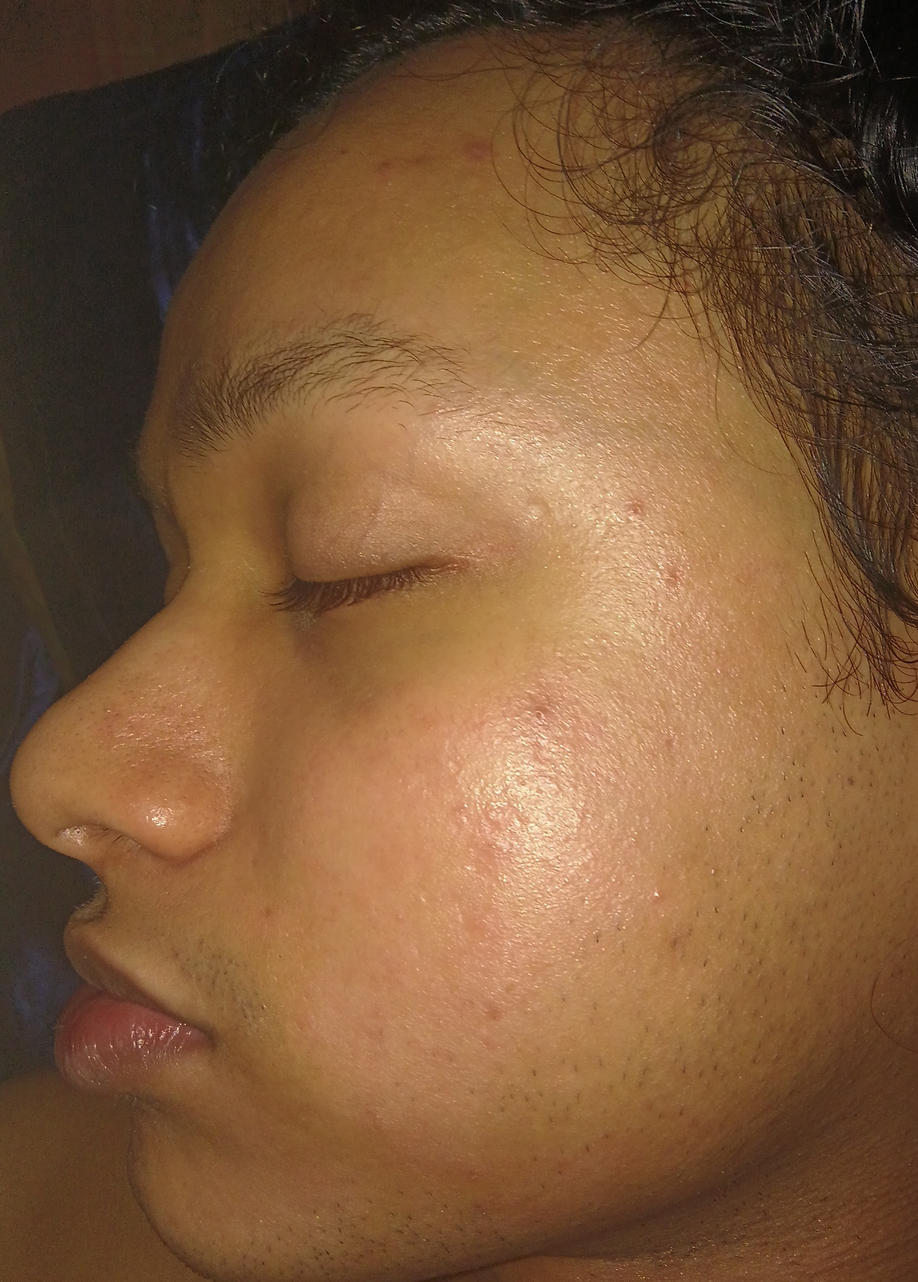closed_comedone: (512, 479, 586, 576), (637, 858, 666, 917)
